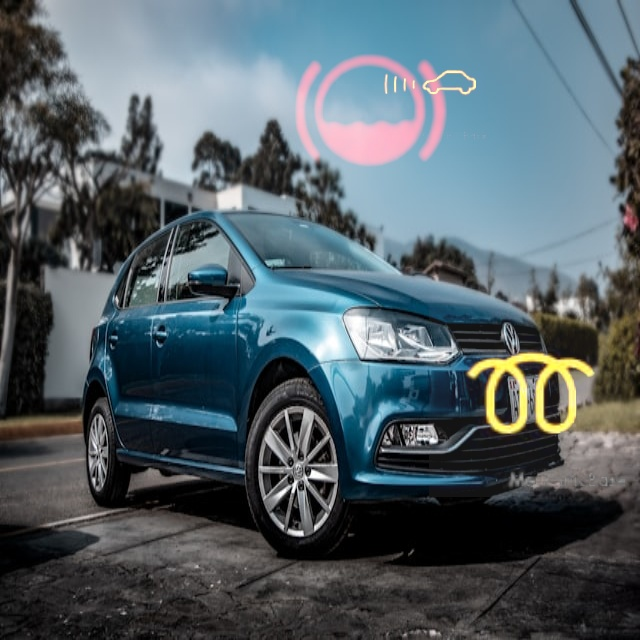symbol: (261, 5, 477, 221), (429, 292, 634, 497), (368, 23, 491, 146)
